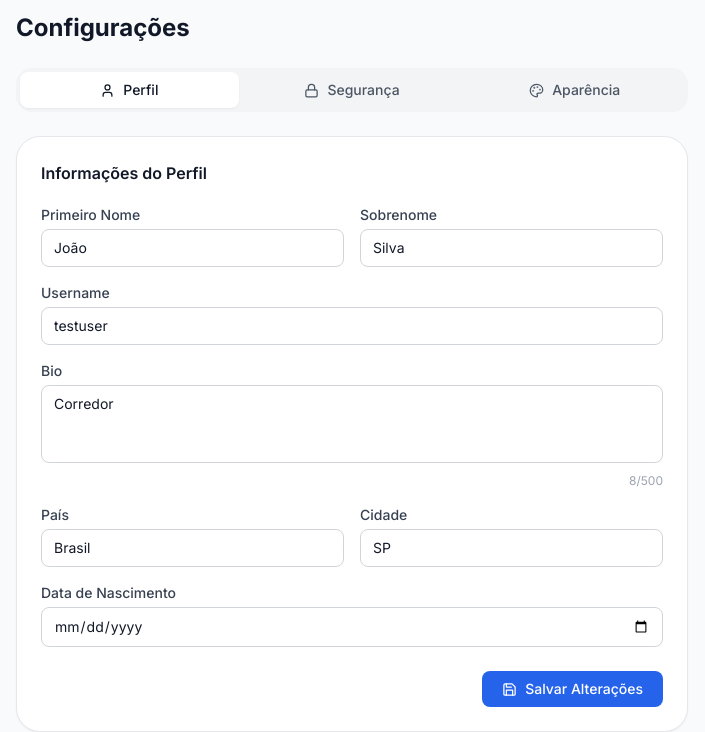
Test: Settings page › Segurança tab › renders password fields when Segurança tab is clicked
This screenshot has width=705, height=732.
Click the button "Segurança" at [352, 90], box [243, 72, 461, 108]
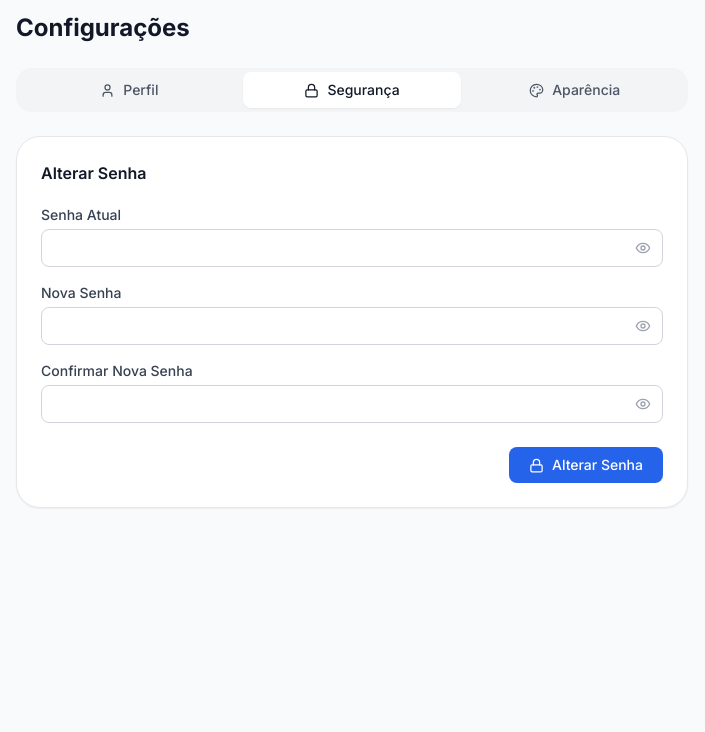
Expected: the password field labelled "Senha Atual" is shown, [41, 229, 663, 267]
Expected: the password field labelled "Nova Senha" is shown, [41, 307, 663, 345]
Expected: the password field labelled "Confirmar Nova Senha" is shown, [41, 385, 663, 423]
